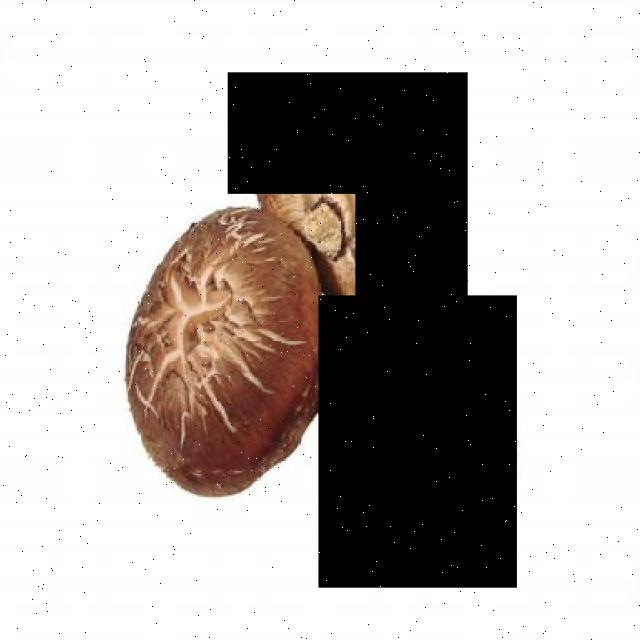Mushroom: (113, 194, 356, 511), (228, 73, 468, 330), (318, 296, 517, 587)
